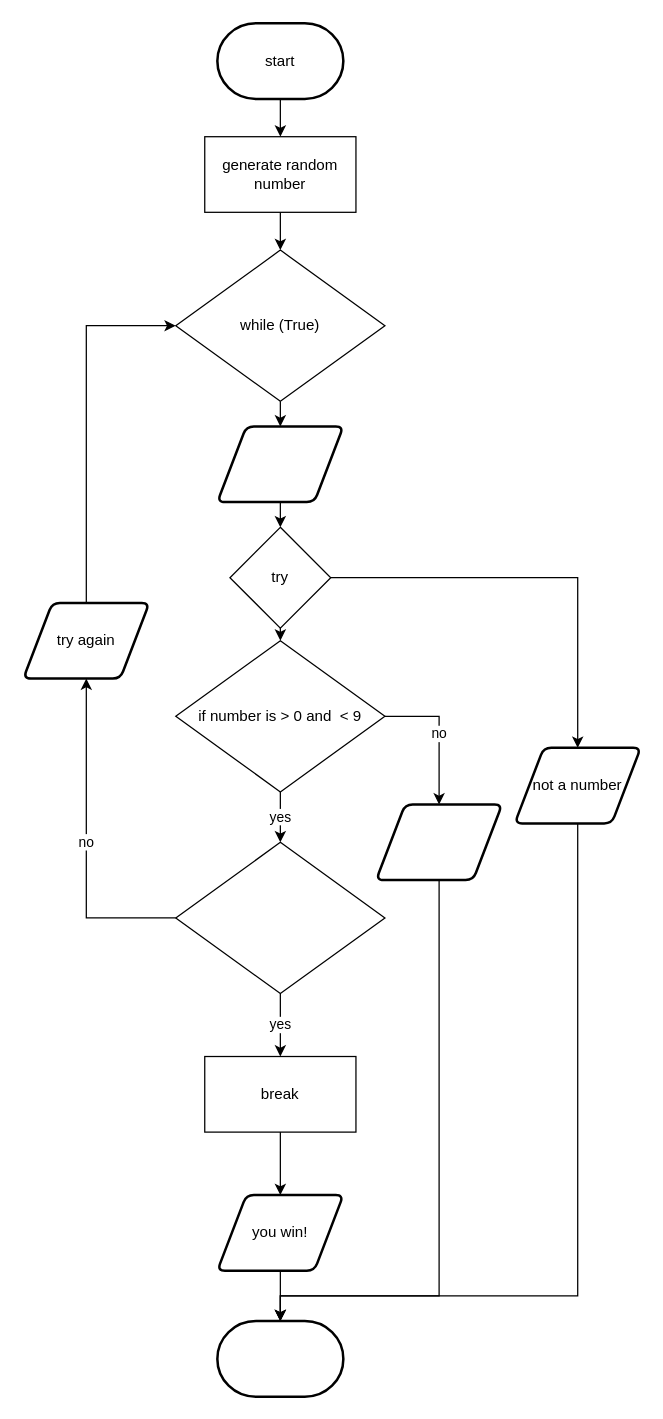
Image size: 663x1419. Some labels were removed from this diagram. Here are the shapes that lost their labels. From the top down, the centre of each, then its label:
(279,464): input number
(438,842): not valid
(280,917): if random number == number
(279,1358): end
